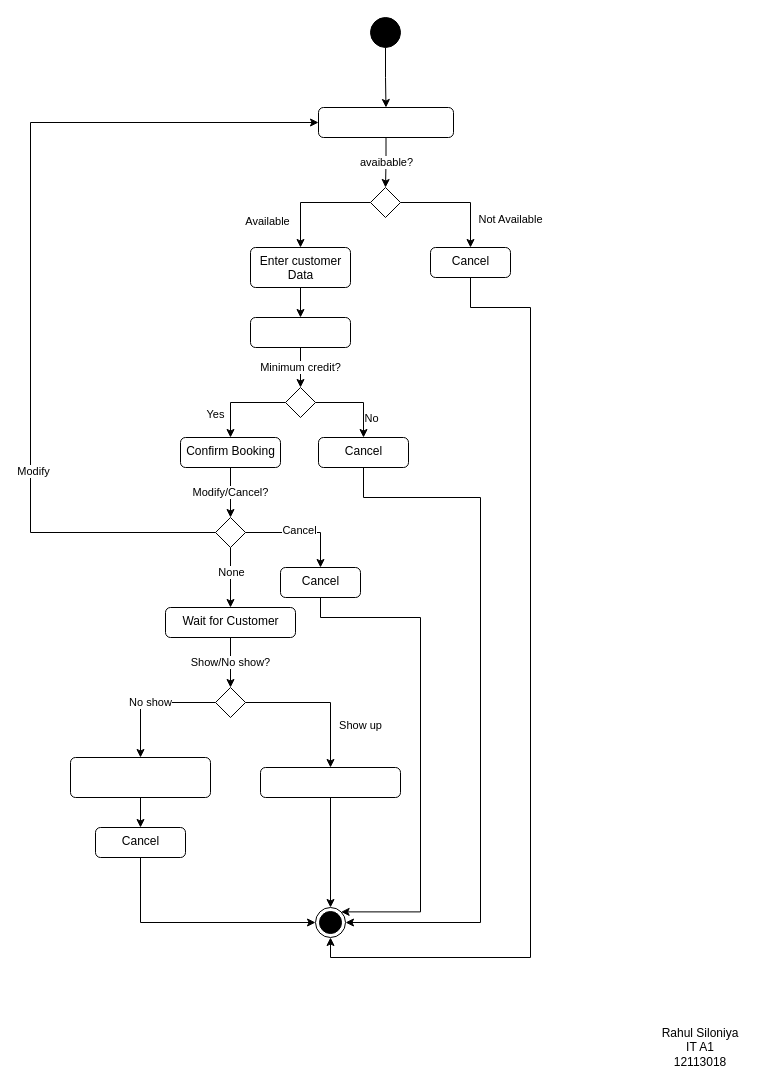
Some shapes in this 778 by 1086 pixel diagram are drawn without their labels. Here are the shapes that lost their labels. From the top down, the centre of each, then its label:
At point (386, 122): "Check Availibity".
At point (300, 332): "Verify Credit".
At point (140, 777): "Deduct penalty on Credit Card".
At point (330, 782): "Bill customer after stay".
